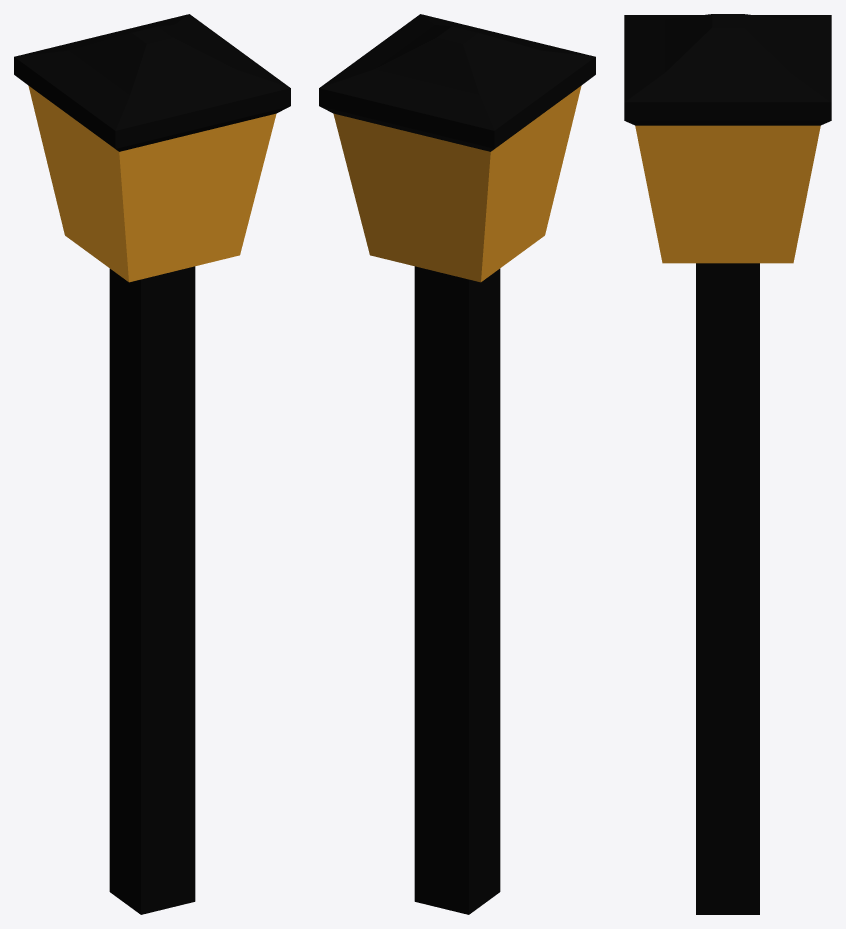
Rendered from Light.fbx.
3 views of the same model, side by side, from view 1: azimuth 30°, elevation 25°; view 2: azimuth 150°, elevation 25°; view 3: azimuth 270°, elevation 25° (orthographic). The views are drawn at different scales.
Visible parts, largest first — view 1: Lamp 2; view 2: Lamp 2; view 3: Lamp 2.
Part boxes in pixels (bbox=[...]): Lamp 2: bbox=[14, 14, 290, 914]; Lamp 2: bbox=[319, 14, 595, 914]; Lamp 2: bbox=[624, 14, 831, 914].
Size of the model in its own units: 19.62 by 92.11 by 19.62.
